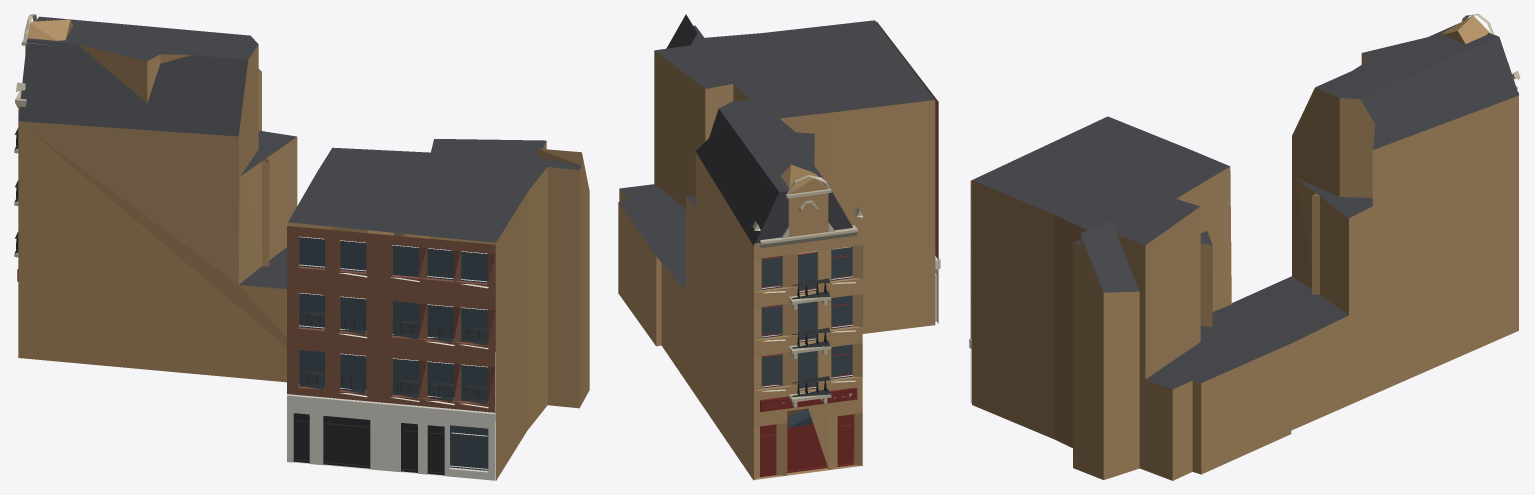
The model's file is roode-bioscoop.lod1.glb.
3 renders of one model, left to right at view 1: azimuth 30°, elevation 25°; view 2: azimuth 150°, elevation 25°; view 3: azimuth 270°, elevation 25°, orthographic. The views are drawn at different scales.
Visible parts, largest first — view 1: roode-bioscoop; view 2: roode-bioscoop; view 3: roode-bioscoop.
Boxes of the visible parts, x1,y1,x2,y2 form: roode-bioscoop: (14, 14, 589, 480); roode-bioscoop: (618, 14, 940, 480); roode-bioscoop: (969, 14, 1520, 480).
Size of the model in its own units: 21.94 by 16.66 by 27.82.
